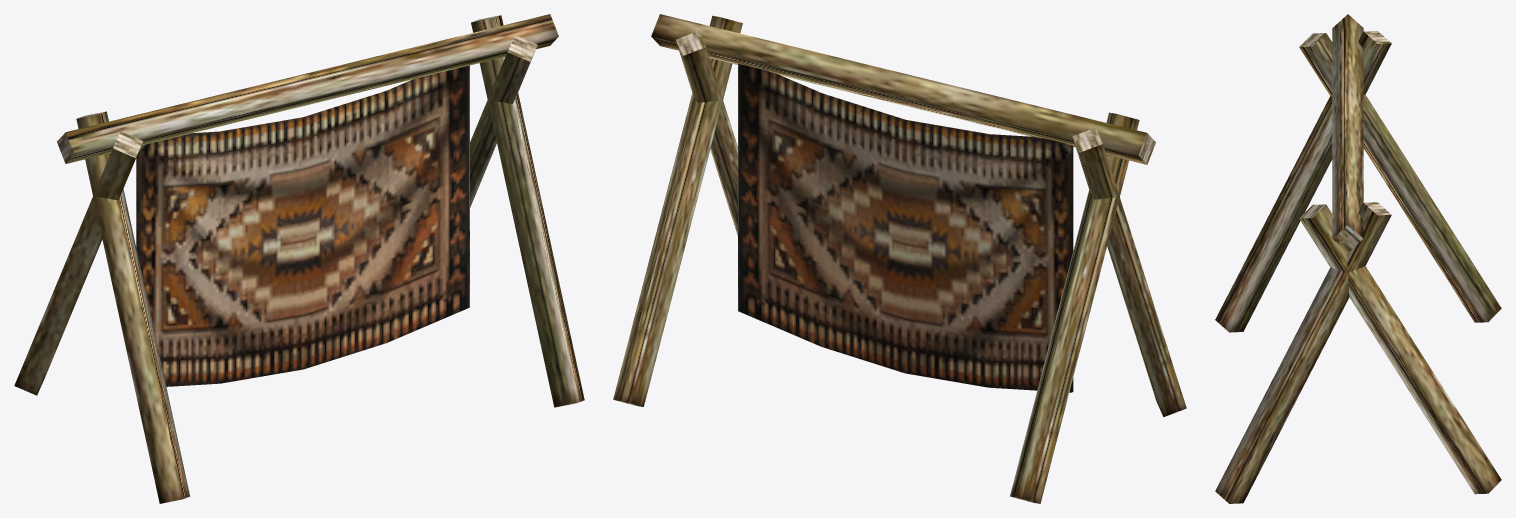
The model's file is eyecandy_iber_rugstand.dae.
3 views of the same model, side by side, from view 1: azimuth 30°, elevation 25°; view 2: azimuth 150°, elevation 25°; view 3: azimuth 270°, elevation 25° (orthographic). The views are drawn at different scales.
Visible parts, largest first — view 1: Plane03; view 2: Plane03; view 3: Plane03.
Boxes of the visible parts, <box> form: Plane03: <box>14,14,584,503</box>; Plane03: <box>613,14,1186,503</box>; Plane03: <box>1215,14,1501,503</box>.
Size of the model in its own units: 4.44 by 2.55 by 2.95.
